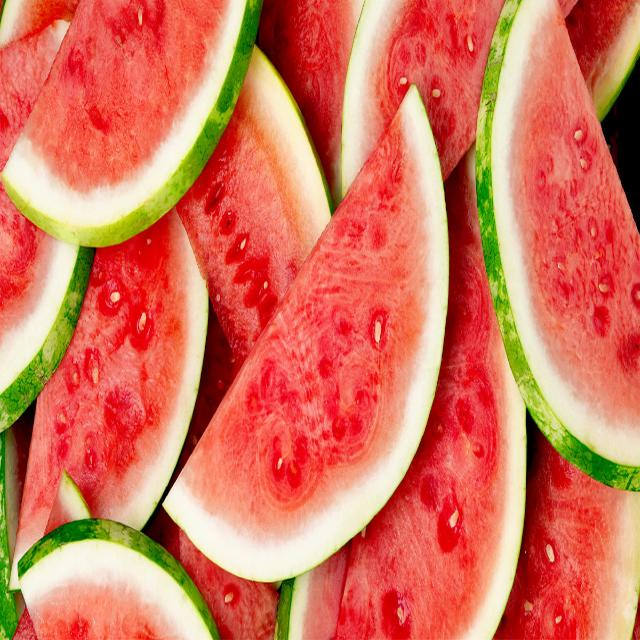Watermelon: (165, 86, 449, 580), (336, 150, 526, 639), (476, 0, 640, 488), (10, 210, 208, 588), (2, 0, 261, 246), (176, 45, 332, 363), (342, 0, 504, 193), (19, 518, 220, 640), (0, 177, 91, 430), (0, 19, 67, 172)
